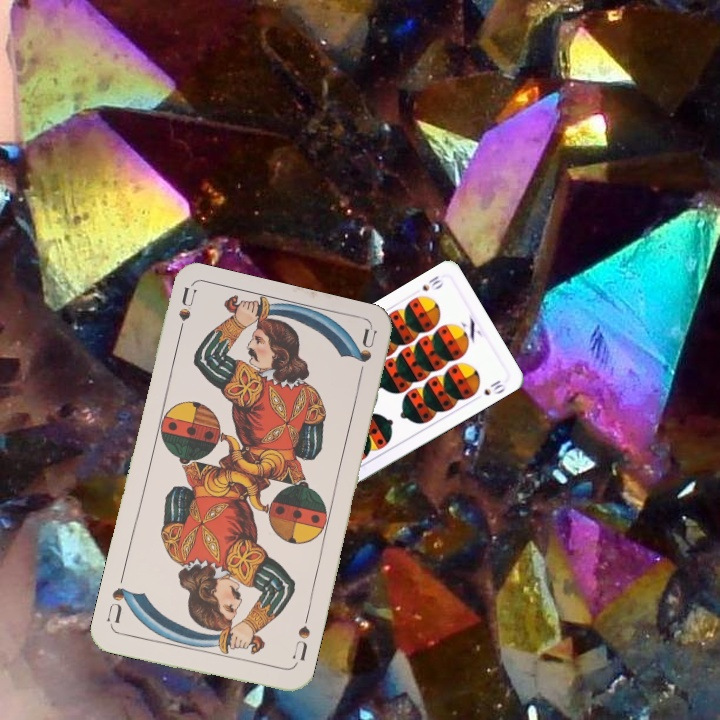S10: (418, 271, 446, 294)
SU: (173, 284, 199, 344), (288, 621, 313, 664)
